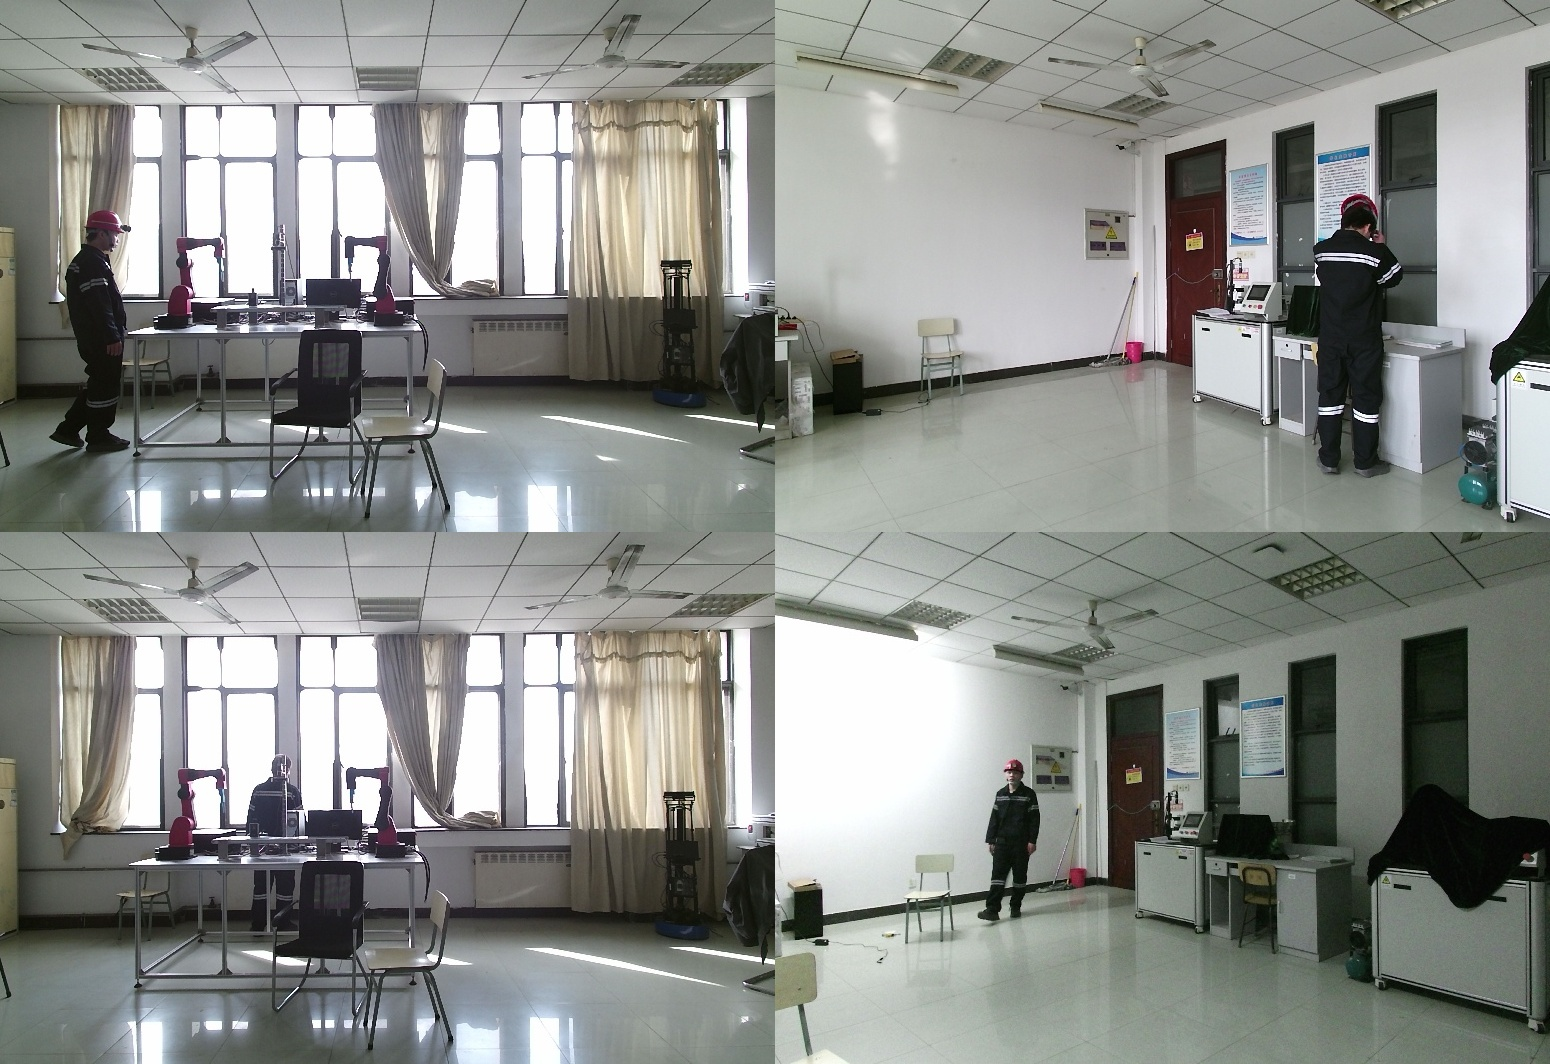person: (1311, 199, 1425, 479), (49, 211, 138, 456), (247, 756, 314, 948), (982, 760, 1043, 924)
